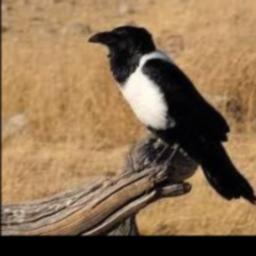Crow: (87, 26, 256, 206)
